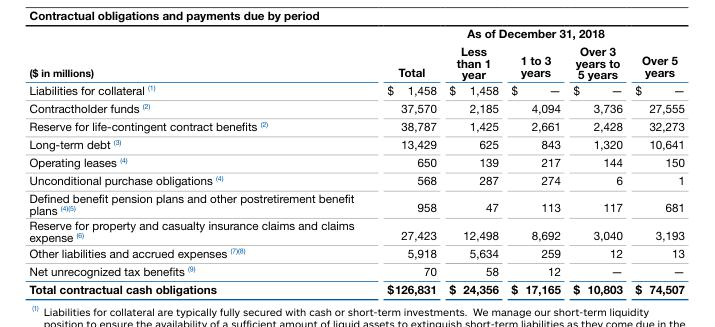table: (28, 28, 684, 296)
table column: (28, 28, 370, 296), (370, 28, 442, 296), (442, 28, 504, 296), (504, 28, 566, 296), (566, 28, 628, 296), (628, 28, 684, 296)
table column header: (28, 28, 684, 83)
table row: (28, 43, 684, 83), (28, 190, 684, 219), (28, 219, 684, 245), (28, 99, 684, 118), (28, 262, 684, 281), (28, 118, 684, 136), (28, 136, 684, 154), (28, 154, 684, 172), (28, 172, 684, 190), (28, 245, 684, 262), (28, 83, 684, 99), (28, 28, 684, 43), (28, 281, 684, 296)
table spanning cell: (28, 28, 370, 83), (370, 28, 684, 43)
